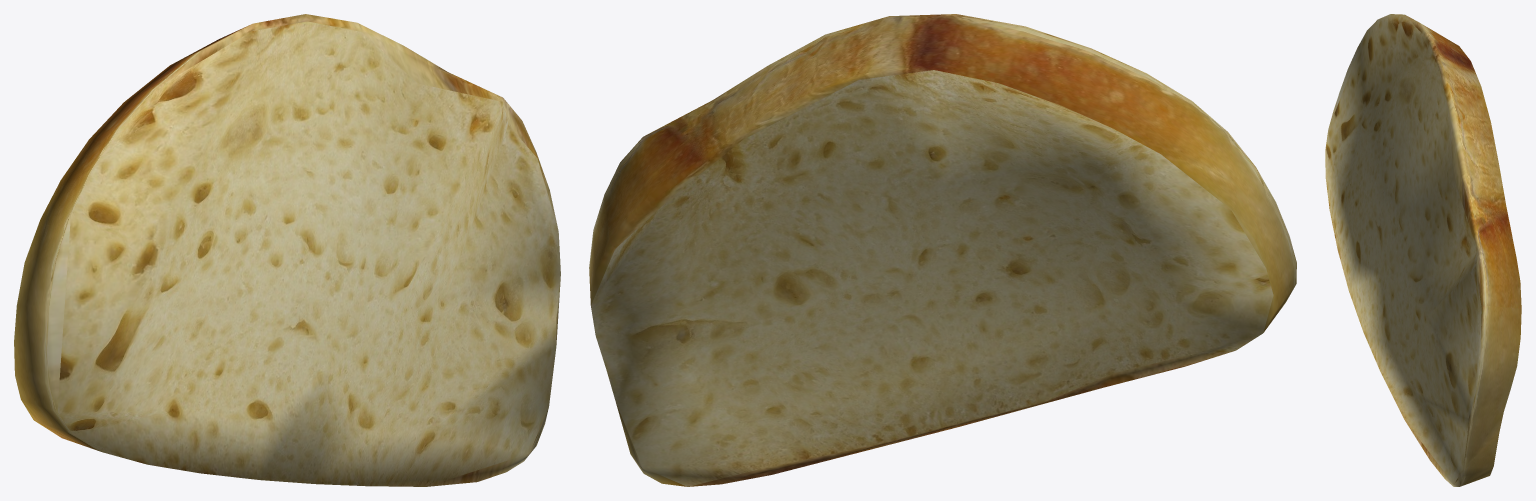
File: bread2-comp.glb
The picture shows the model from 3 angles, left to right: view 1: azimuth 30°, elevation 25°; view 2: azimuth 150°, elevation 25°; view 3: azimuth 270°, elevation 25°; orthographic projection. The views are drawn at different scales.
Parts seen in each view (by area): view 1: Sliced Bread.001; view 2: Sliced Bread.001; view 3: Sliced Bread.001.
Boxes of the visible parts, x1,y1,x2,y2 form: Sliced Bread.001: [14, 14, 560, 486]; Sliced Bread.001: [589, 14, 1296, 486]; Sliced Bread.001: [1325, 14, 1521, 486].
Bounding box in the file's own units: 13.41 × 10.7 × 5.39.
1 material, 1 textured.
